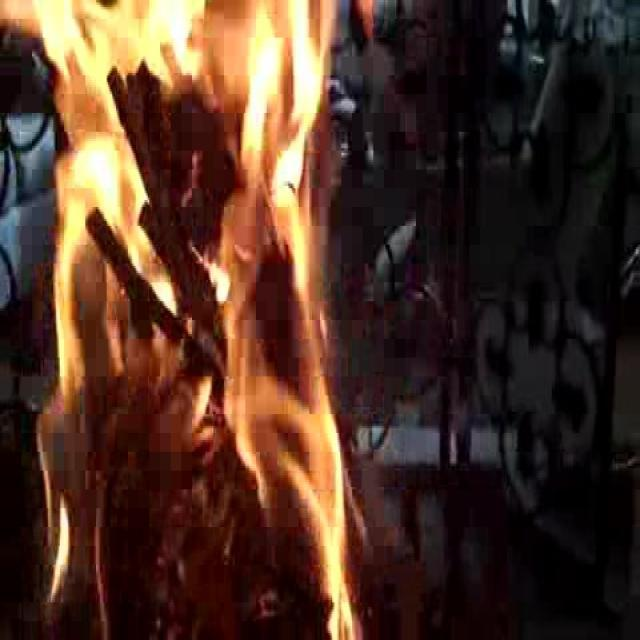Fire: (28, 9, 336, 620)
